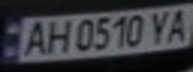0: (124, 11, 151, 47), (72, 16, 96, 53)
1: (109, 14, 130, 50)
5: (93, 15, 115, 52)
A: (18, 19, 51, 56), (163, 6, 193, 43)
H: (39, 18, 72, 55)
Y: (145, 8, 175, 45)
